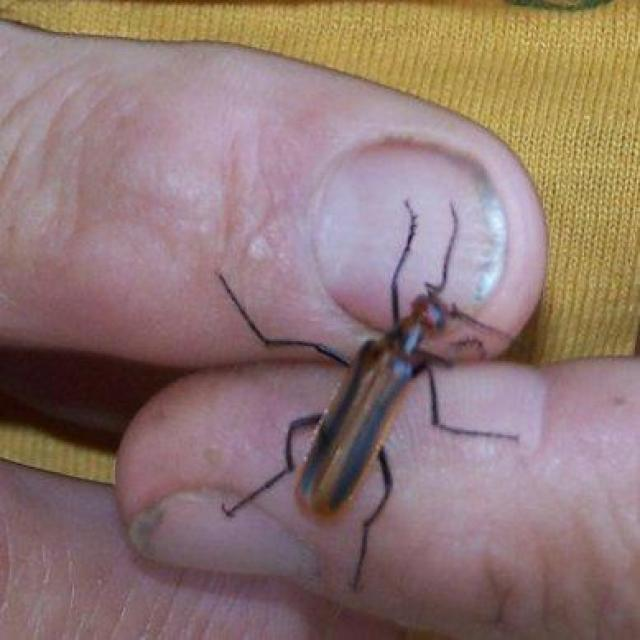BlisterBeetle-Adult-: (258, 198, 520, 548)
